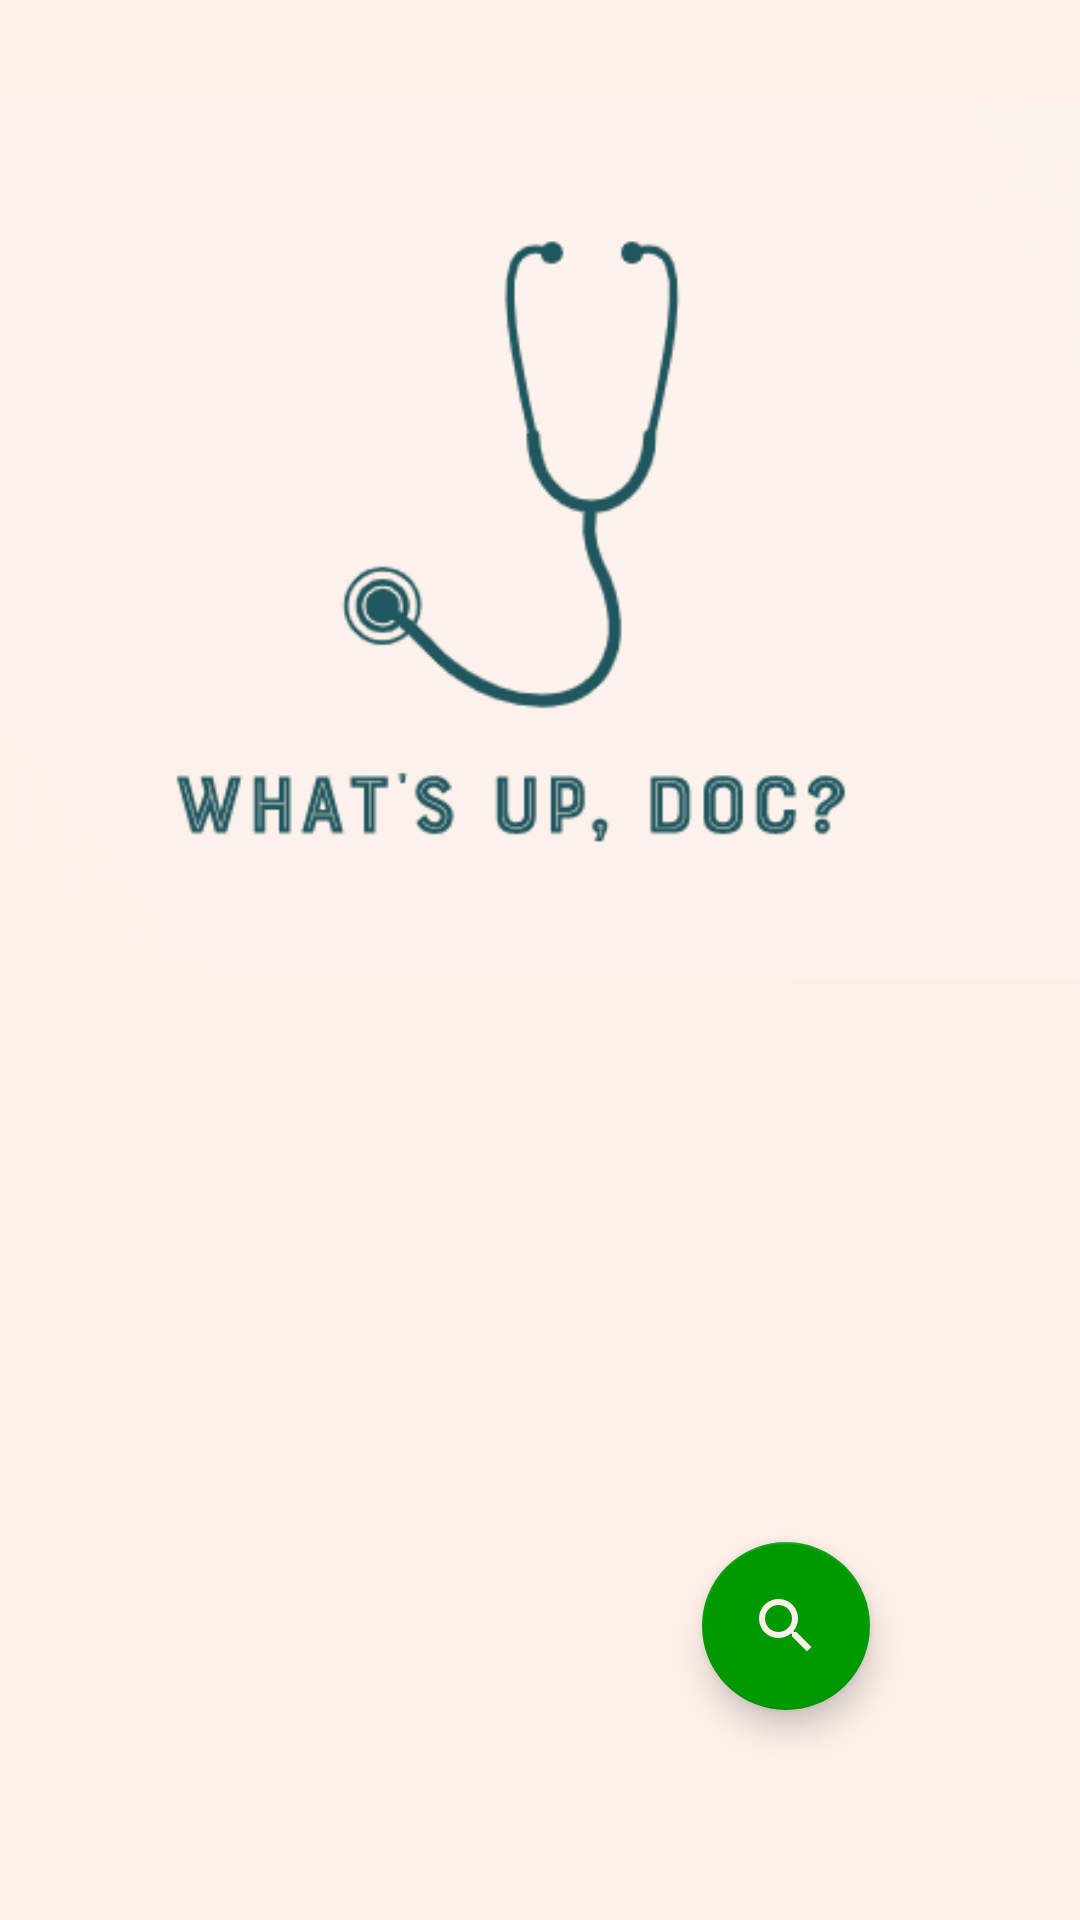

Locate icon controls on the screen. Image size 1080x1920, boxes as (x1, y1, x2, y2).
search: (702, 1542, 870, 1710)
